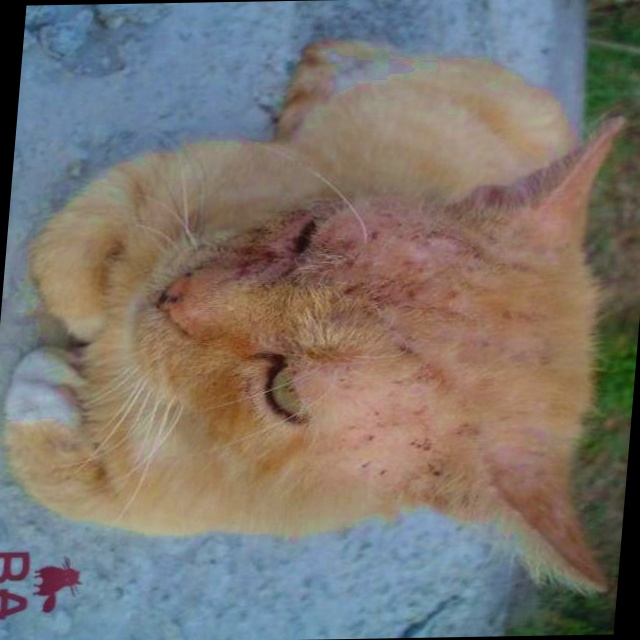ringworm: (323, 224, 408, 305), (225, 242, 277, 284)
